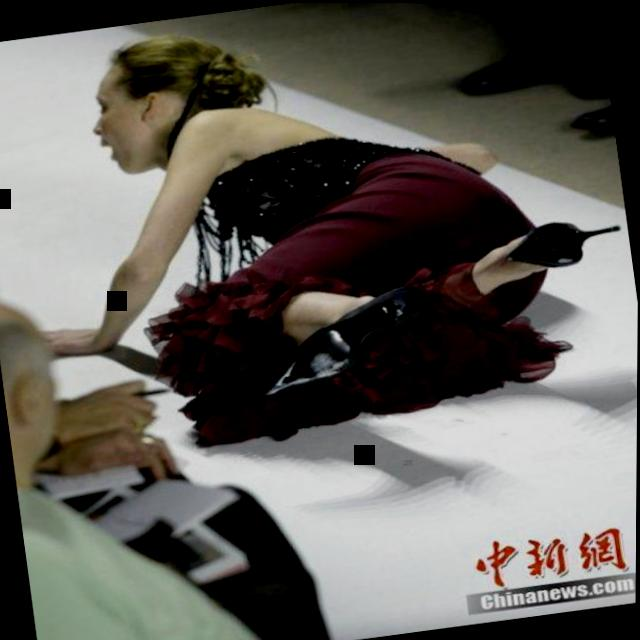Fall-Detected: (8, 0, 633, 475)
